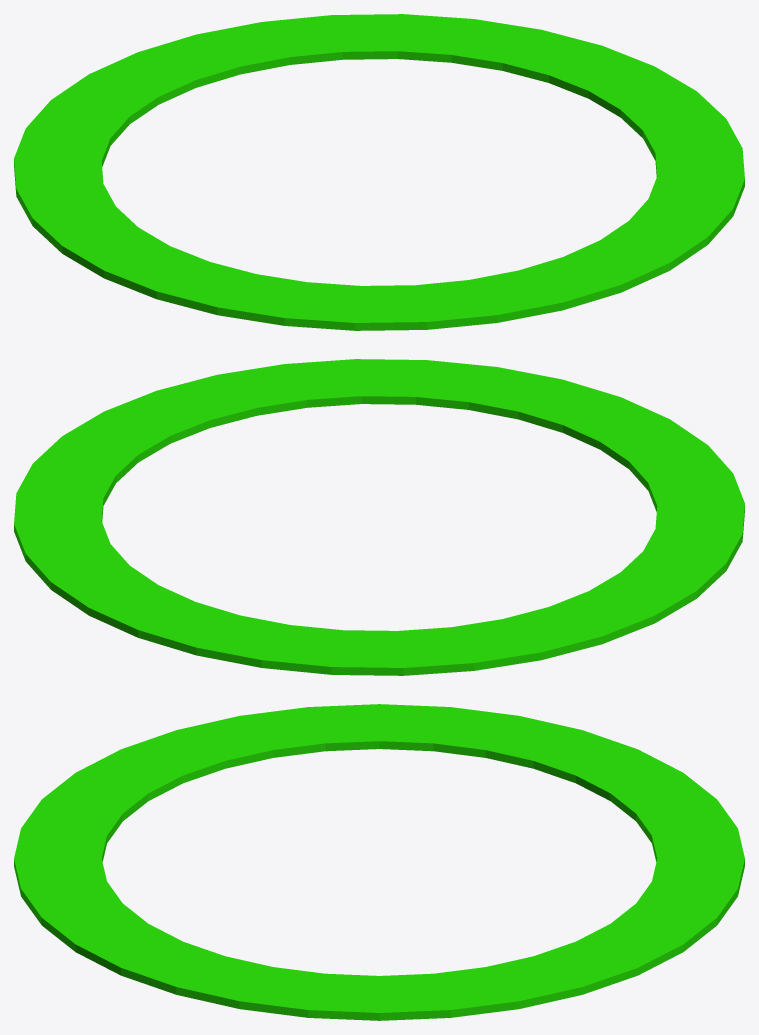
The picture shows the model from 3 angles, top to bottom: view 1: azimuth 30°, elevation 25°; view 2: azimuth 150°, elevation 25°; view 3: azimuth 270°, elevation 25°; orthographic projection.
Visible parts, largest first — view 1: Cylinder; view 2: Cylinder; view 3: Cylinder.
Boxes of the visible parts, x1=… form: Cylinder: x1=14, y1=14, x2=744, y2=330; Cylinder: x1=14, y1=359, x2=744, y2=675; Cylinder: x1=14, y1=704, x2=744, y2=1020.
Bounding box in the file's own units: 200 × 2.37 × 200.
